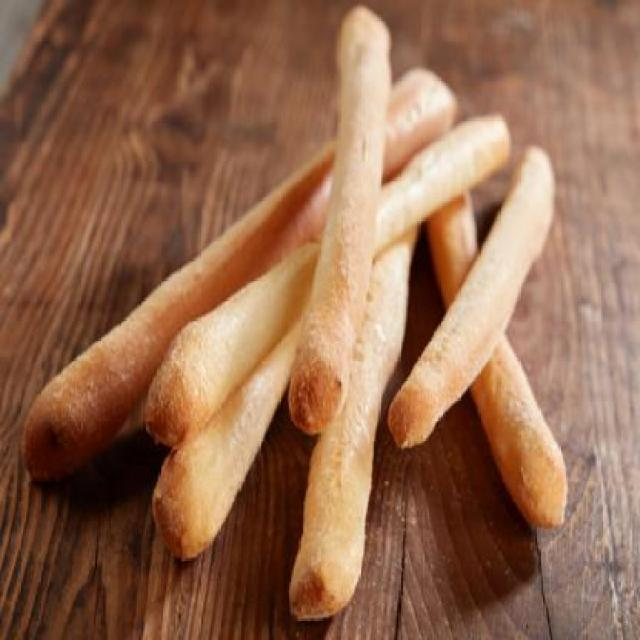Grissini: (36, 38, 582, 607)
